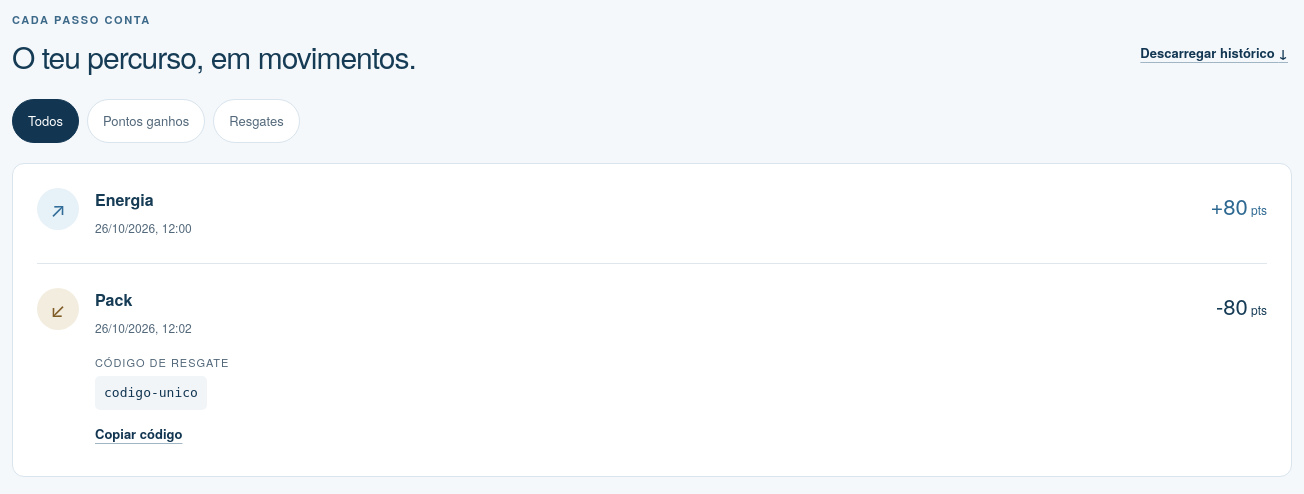
Test: permite filtrar créditos e resgates no histórico
The image size is (1304, 494).
Click the button "Resgates" at (256, 120), box [213,98,300,142]
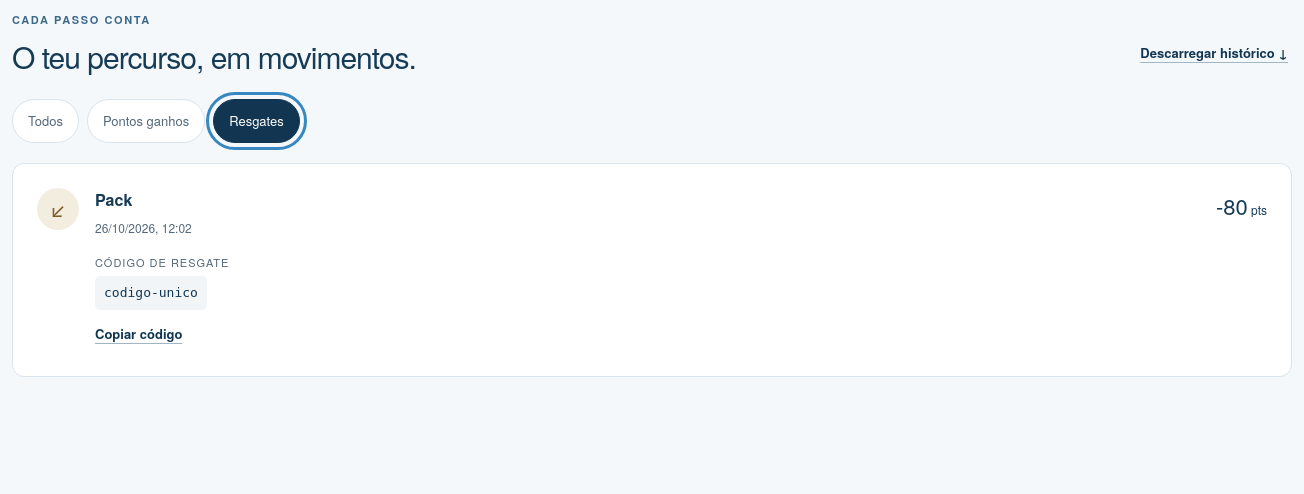
Expected: the heading "Pack" is shown, [95,188,132,210]
Result: the heading "Energia" is gone
Click the button "Pontos ganhos" at (146, 120), box [87,98,205,142]
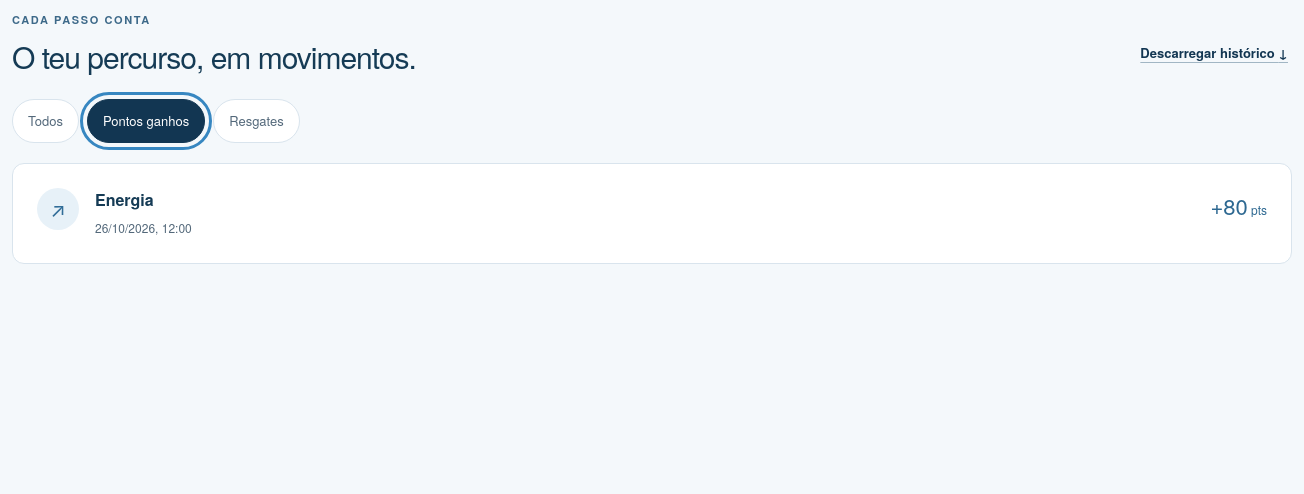
Result: the heading "Energia" is shown at [95,188,154,210]
Result: the heading "Pack" is gone
